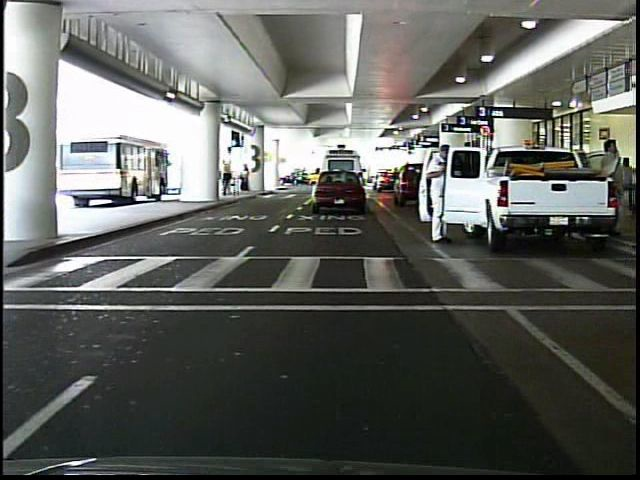person: (594, 137, 623, 232), (422, 140, 447, 244), (618, 154, 636, 214), (221, 158, 234, 198), (239, 163, 254, 195)
